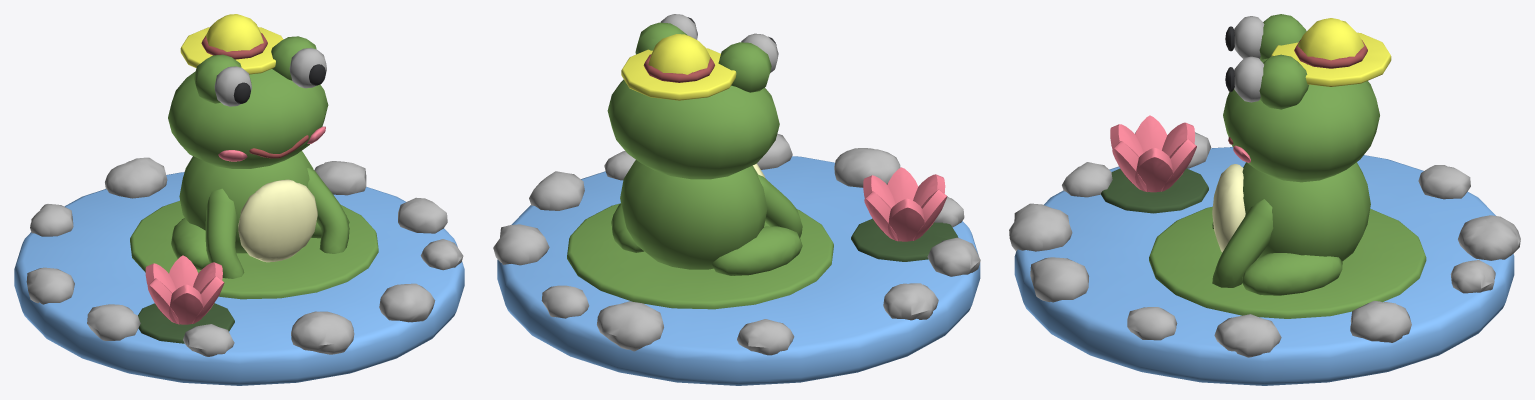
Rendered from FrogFromAI.fbx.
3 renders of one model, left to right at view 1: azimuth 30°, elevation 25°; view 2: azimuth 150°, elevation 25°; view 3: azimuth 270°, elevation 25°, orthographic. The views are drawn at different scales.
Parts seen in each view (by area): view 1: S_FrogFromAI, M_FrogFromAI, D_FrogFromAI_1, D_FrogFromAI_5, D_FrogFromAI_4, D_FrogFromAI_3, D_FrogFromAI_7, D_FrogFromAI_8, D_FrogFromAI_9, D_FrogFromAI_2; view 2: S_FrogFromAI, M_FrogFromAI, D_FrogFromAI_3, D_FrogFromAI_1, D_FrogFromAI_4, D_FrogFromAI_6, D_FrogFromAI_2, D_FrogFromAI_7, D_FrogFromAI_9, D_FrogFromAI_5, D_FrogFromAI_8; view 3: S_FrogFromAI, M_FrogFromAI, D_FrogFromAI_2, D_FrogFromAI_4, D_FrogFromAI_7, D_FrogFromAI_5, D_FrogFromAI_3, D_FrogFromAI_6, D_FrogFromAI_8, D_FrogFromAI_9, D_FrogFromAI_1.
Part boxes in pixels (box(x1,y1,x2,y2)): S_FrogFromAI: box(14, 172, 464, 385); M_FrogFromAI: box(26, 14, 447, 354); D_FrogFromAI_1: box(87, 304, 140, 340); D_FrogFromAI_5: box(183, 324, 234, 356); D_FrogFromAI_4: box(30, 204, 73, 236); D_FrogFromAI_3: box(193, 54, 241, 103); D_FrogFromAI_7: box(420, 239, 463, 270); D_FrogFromAI_8: box(289, 48, 326, 88); D_FrogFromAI_9: box(214, 66, 251, 106); D_FrogFromAI_2: box(271, 36, 316, 80); S_FrogFromAI: box(497, 156, 980, 385); M_FrogFromAI: box(493, 34, 958, 351); D_FrogFromAI_3: box(718, 42, 771, 92); D_FrogFromAI_1: box(927, 237, 980, 276); D_FrogFromAI_4: box(737, 319, 794, 355); D_FrogFromAI_6: box(541, 285, 589, 318); D_FrogFromAI_2: box(635, 22, 687, 54); D_FrogFromAI_7: box(604, 151, 635, 180); D_FrogFromAI_9: box(741, 33, 778, 73); D_FrogFromAI_5: box(934, 196, 964, 227); D_FrogFromAI_8: box(660, 14, 697, 39); S_FrogFromAI: box(1014, 147, 1514, 385); M_FrogFromAI: box(1009, 18, 1520, 357); D_FrogFromAI_2: box(1259, 54, 1308, 109); D_FrogFromAI_4: box(1418, 165, 1470, 199); D_FrogFromAI_7: box(1127, 307, 1177, 340); D_FrogFromAI_5: box(1062, 162, 1112, 197); D_FrogFromAI_3: box(1259, 14, 1306, 59); D_FrogFromAI_6: box(1450, 260, 1495, 293); D_FrogFromAI_8: box(1234, 56, 1263, 102); D_FrogFromAI_9: box(1234, 16, 1264, 58); D_FrogFromAI_1: box(1186, 132, 1211, 168).
Size of the model in its own units: 600 by 365 by 610.
